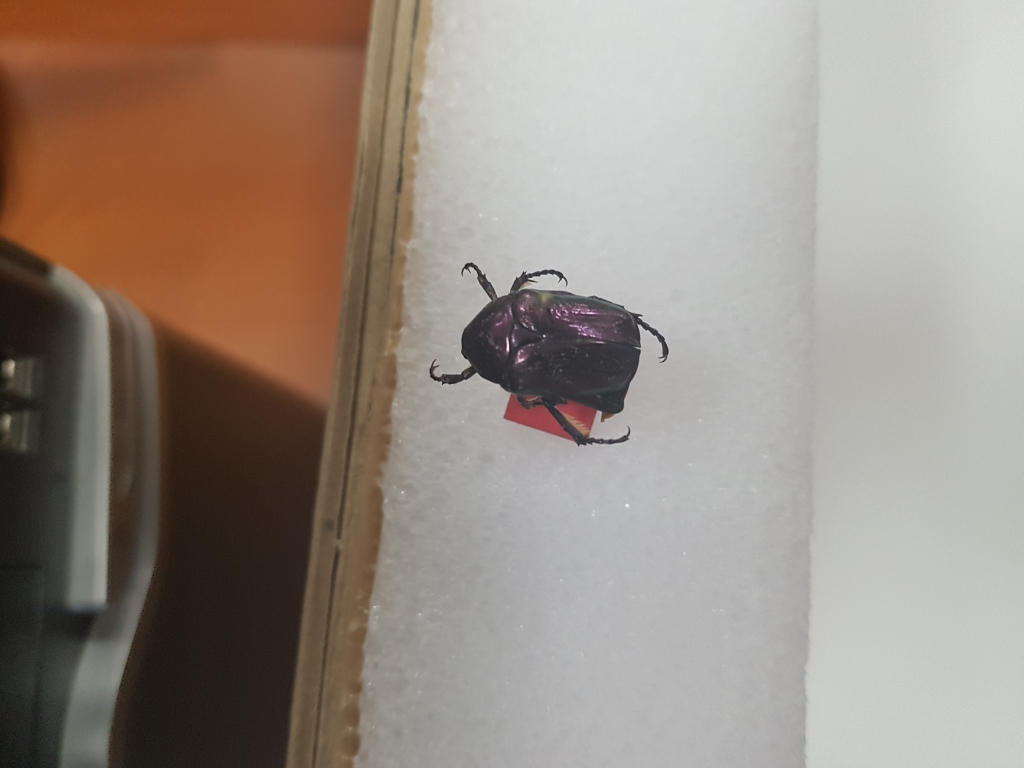Protaetia_besucheti: (428, 258, 680, 453)
